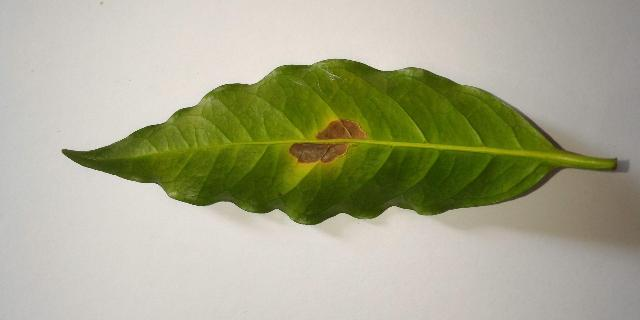cercospora: (288, 118, 367, 167)
